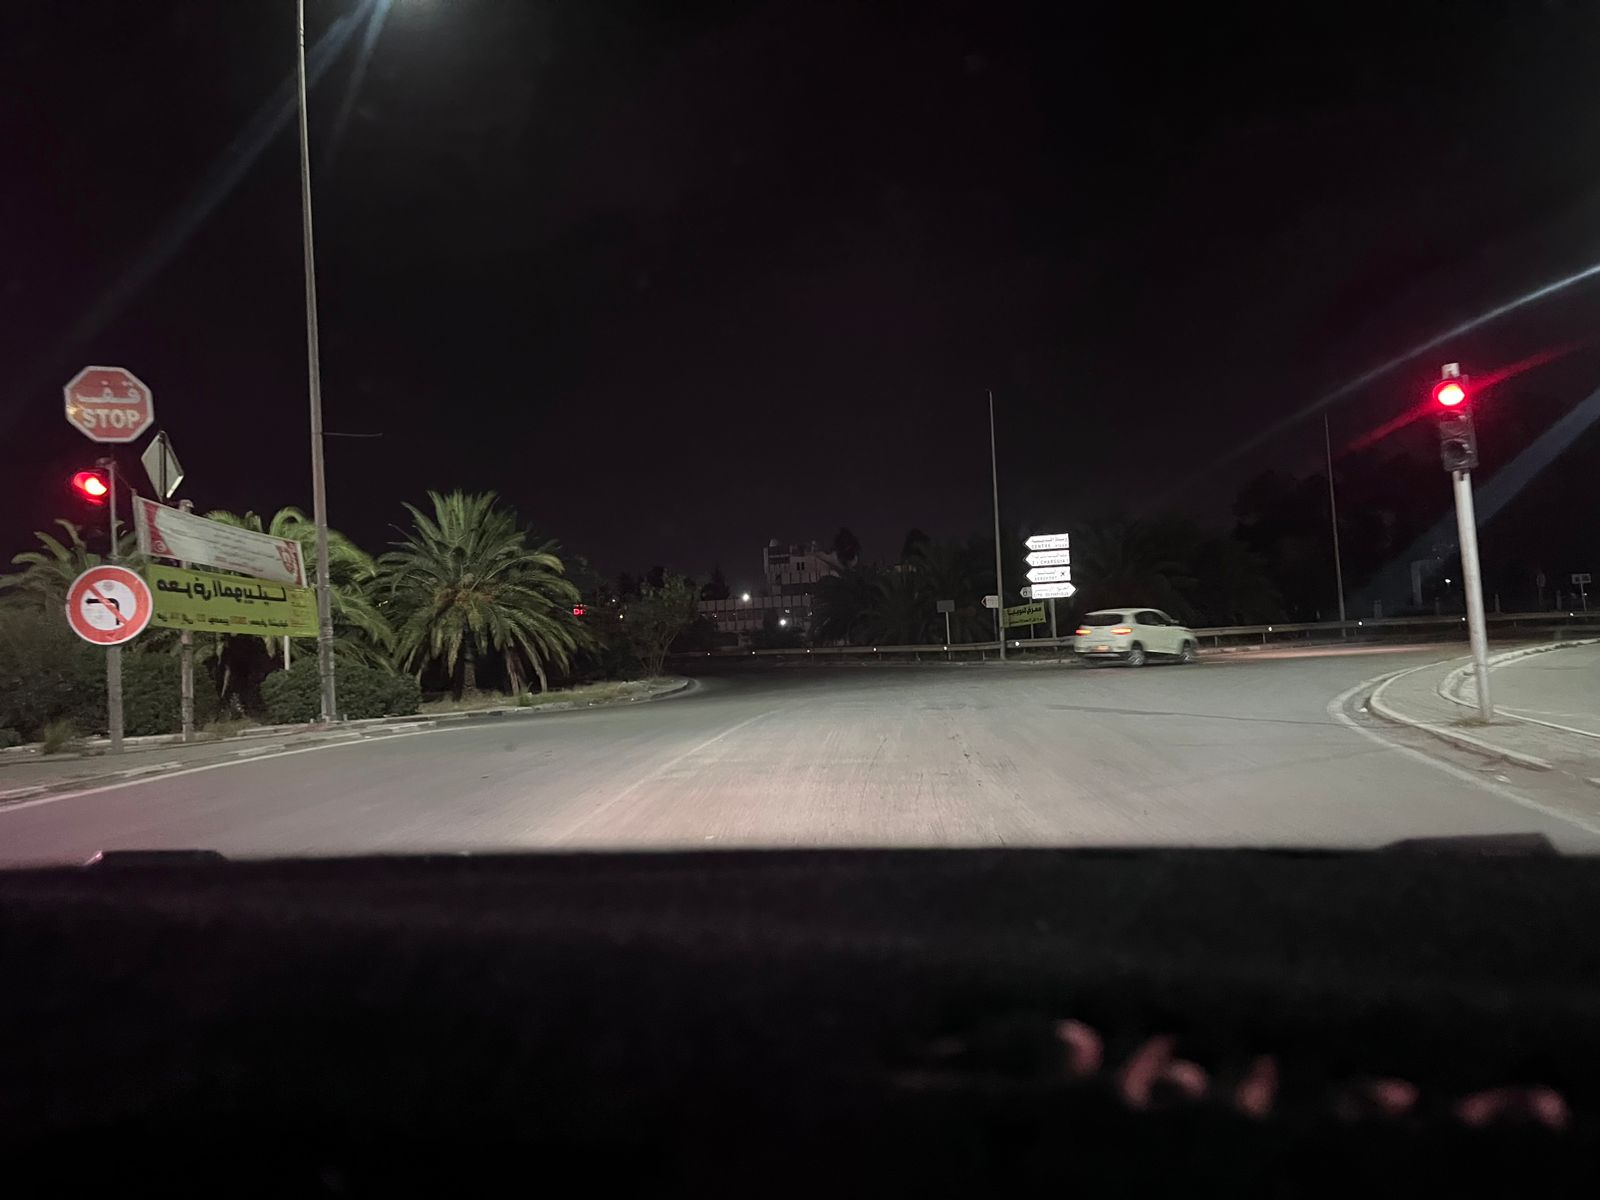RedLight: (1430, 373, 1480, 474), (72, 466, 116, 557)
Stop: (62, 366, 156, 444)
